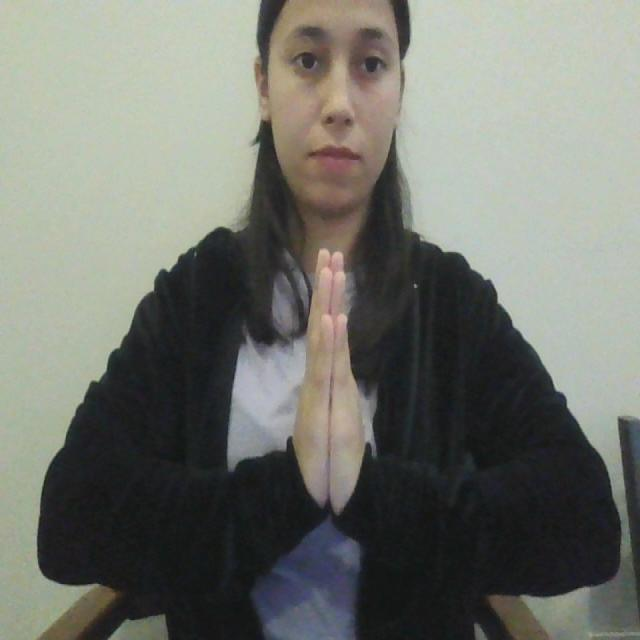Ozur-Dilemek: (286, 232, 374, 522)
